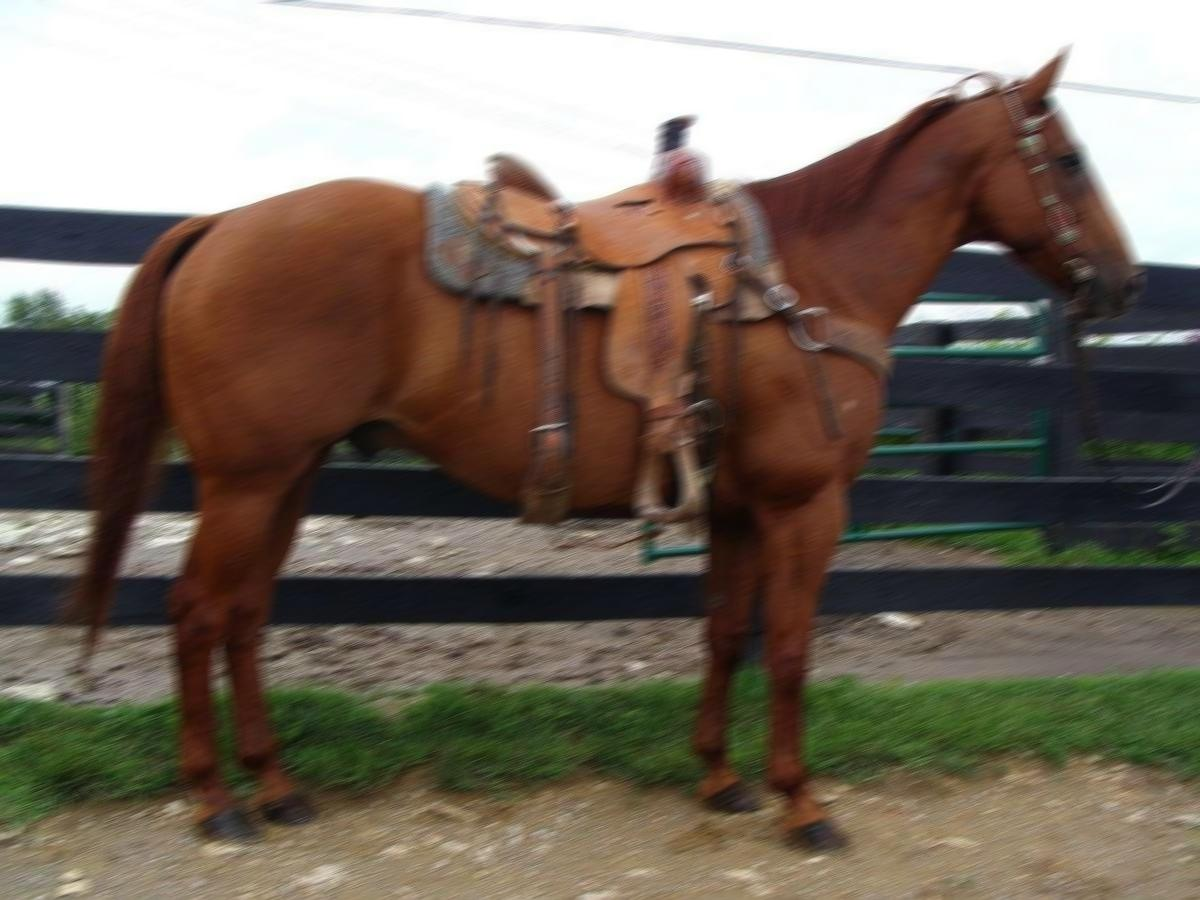horse: (54, 39, 1152, 862)
